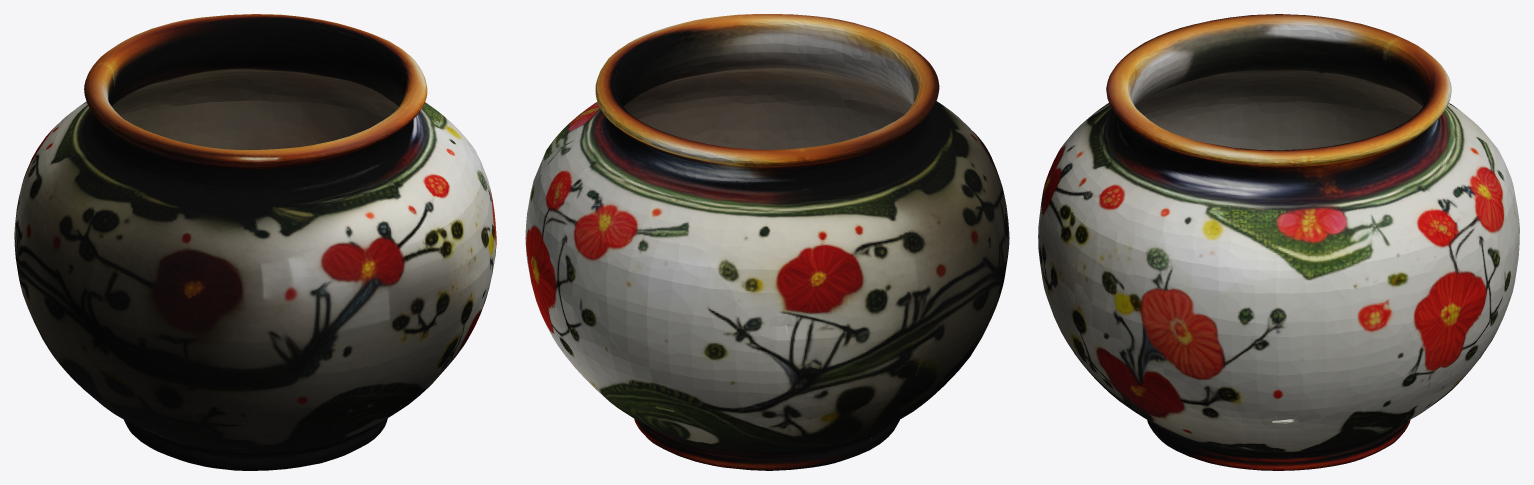
Rendered from ceramic-spice-jar-japanese.jpeg.glb.
The picture shows the model from 3 angles, left to right: view 1: azimuth 30°, elevation 25°; view 2: azimuth 150°, elevation 25°; view 3: azimuth 270°, elevation 25°; orthographic projection.
Visible parts, largest first — view 1: world; view 2: world; view 3: world.
Boxes of the visible parts, x1,y1,x2,y2 form: world: [14, 14, 496, 470]; world: [525, 14, 1009, 470]; world: [1038, 14, 1519, 470].
Bounding box in the file's own units: 0.9977 × 0.7629 × 0.9953.
1 material, 1 textured.
